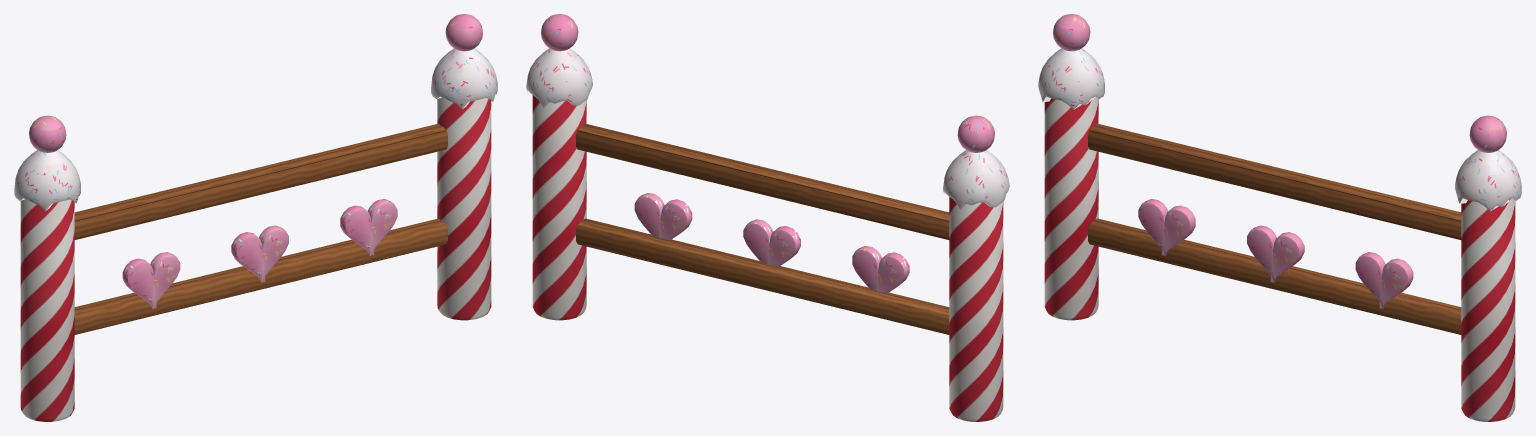
Rendered from GIN_CandyFence.fbx.
The picture shows the model from 3 angles, left to right: view 1: azimuth 30°, elevation 25°; view 2: azimuth 150°, elevation 25°; view 3: azimuth 330°, elevation 25°; orthographic projection.
Parts seen in each view (by area): view 1: GIN_CandyFence; view 2: GIN_CandyFence; view 3: GIN_CandyFence.
Part boxes in pixels (x1=…): GIN_CandyFence: x1=14, y1=14, x2=497, y2=421; GIN_CandyFence: x1=526, y1=14, x2=1009, y2=421; GIN_CandyFence: x1=1038, y1=14, x2=1521, y2=421.
Size of the model in its own units: 2.62 by 1.56 by 0.32.
